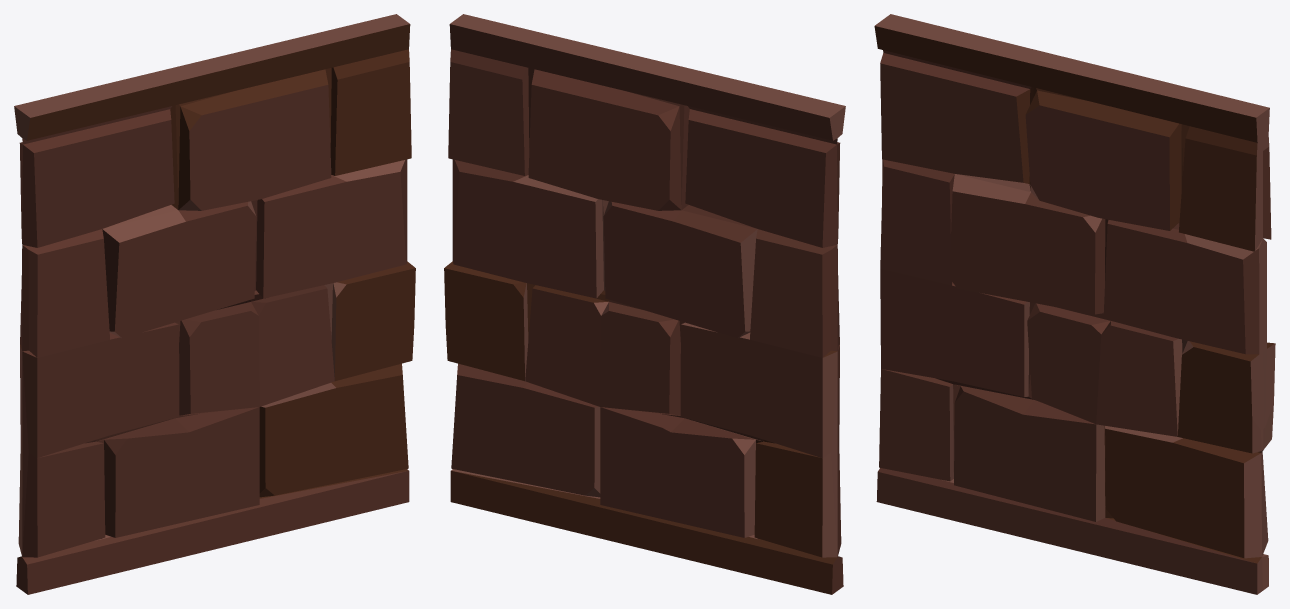
Rendered from Bricks 5m.fbx.
3 views of the same model, side by side, from view 1: azimuth 30°, elevation 25°; view 2: azimuth 150°, elevation 25°; view 3: azimuth 330°, elevation 25° (orthographic).
Parts seen in each view (by area): view 1: Bricks 5m; view 2: Bricks 5m; view 3: Bricks 5m.
Boxes of the visible parts, <box> form: Bricks 5m: <box>14,14,415,594</box>; Bricks 5m: <box>444,14,845,594</box>; Bricks 5m: <box>874,14,1275,594</box>.
Bounding box in the file's own units: 500 × 600 × 61.21.
